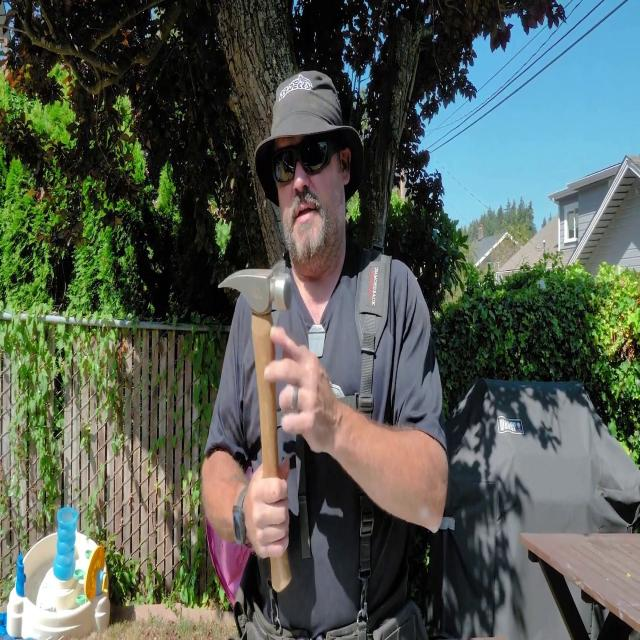hammer: (218, 268, 293, 593)
